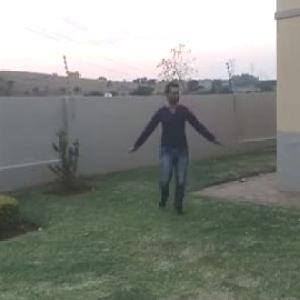land: (123, 86, 226, 226)
